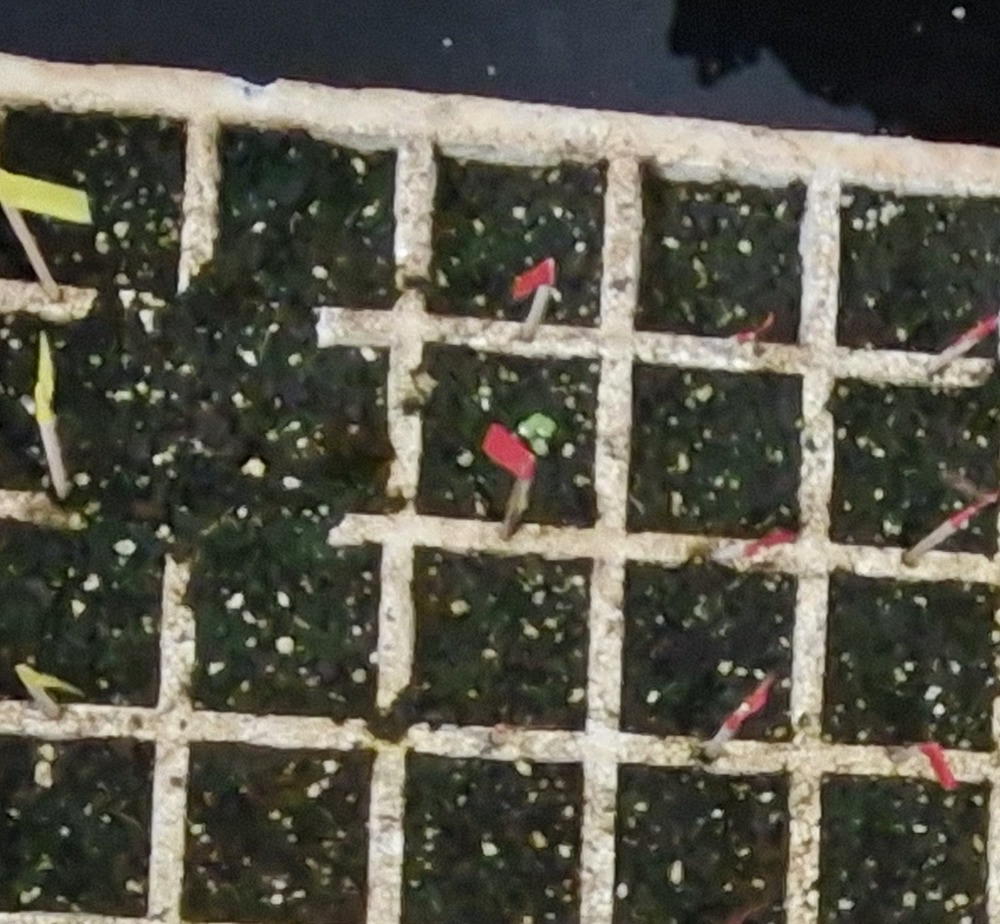Folha: (537, 417, 555, 437), (519, 416, 536, 437), (531, 438, 549, 456)
Germinacao: (517, 414, 558, 456)
